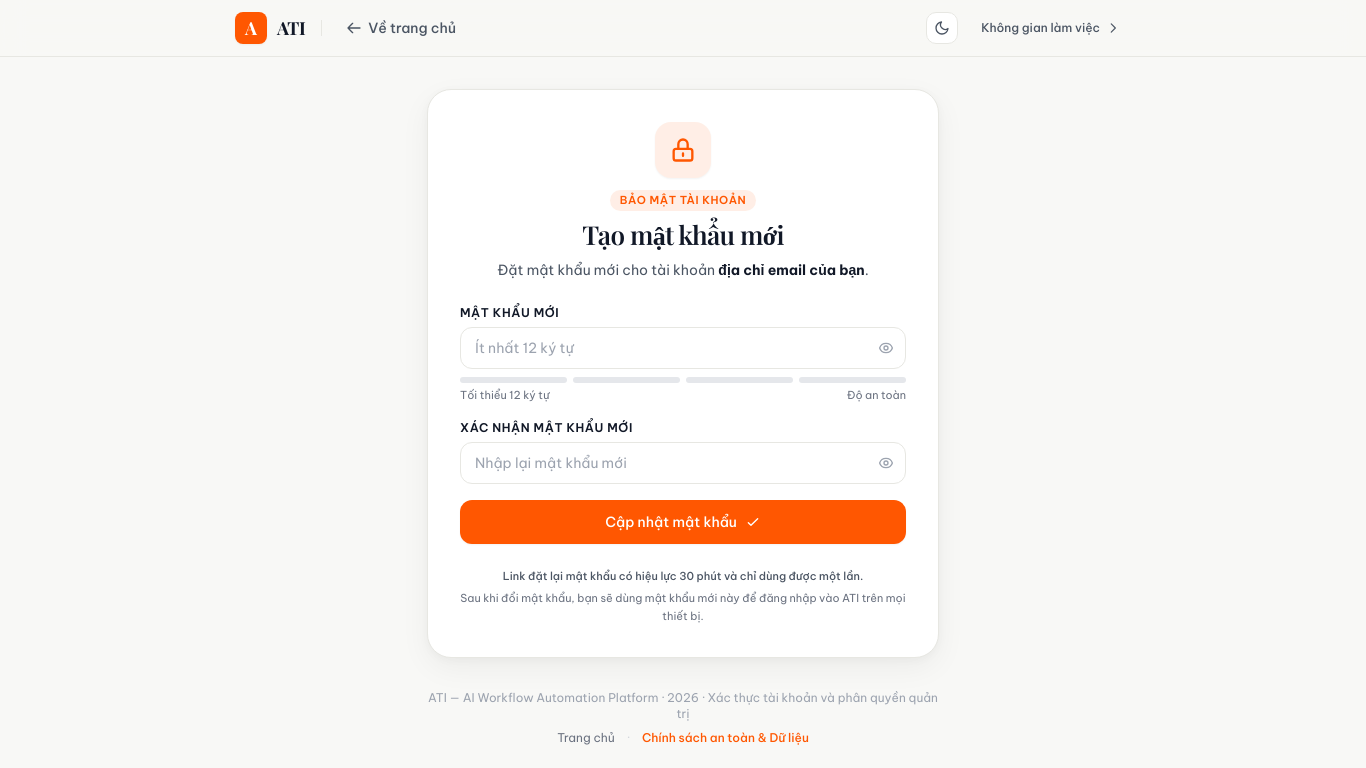
Test: blocks short reset passwords before sending a one-use token
The width and height of the screenshot is (1366, 768).
Type "short" into the password field labelled "Mật khẩu mới".
click(683, 348); type("short")  # box [460,327,906,369]
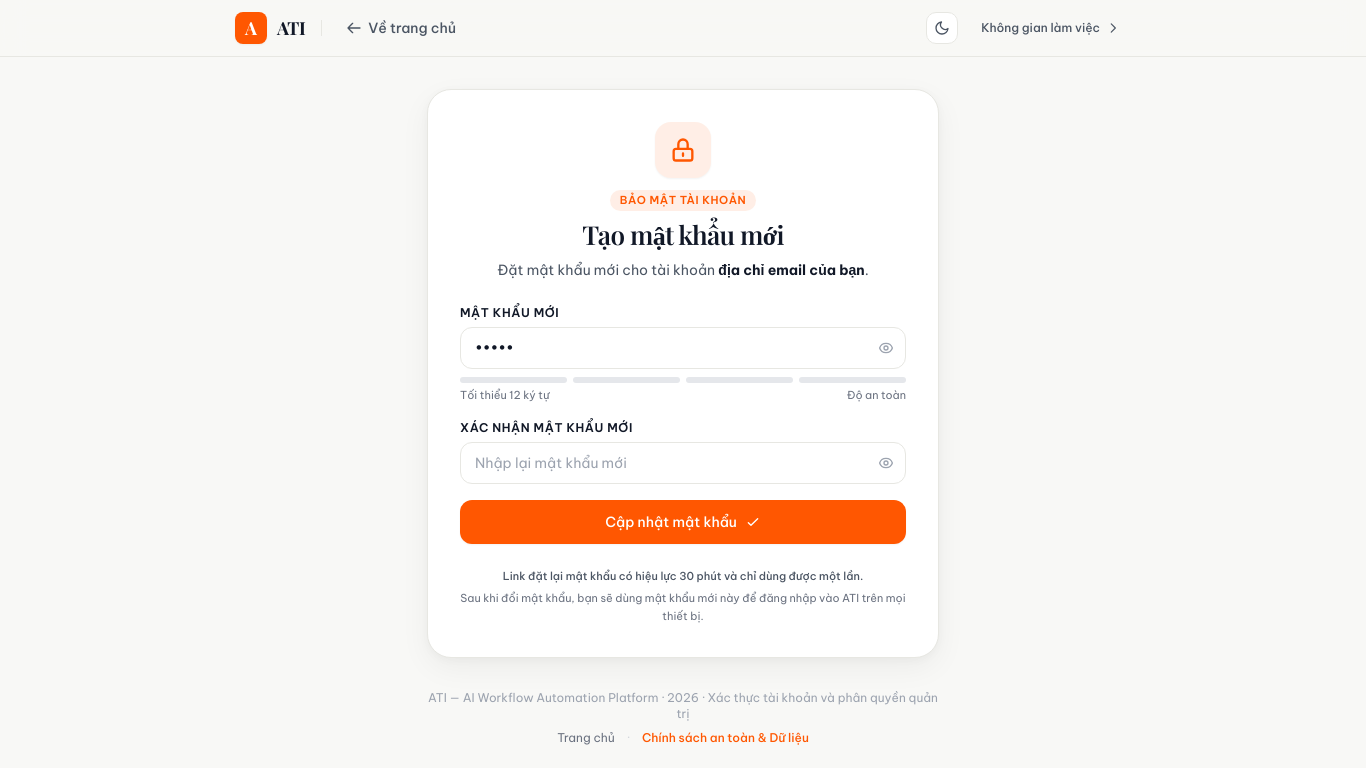
Type "short" into the password field labelled "Xác nhận mật khẩu mới".
click(683, 463); type("short")  # box [460,442,906,484]
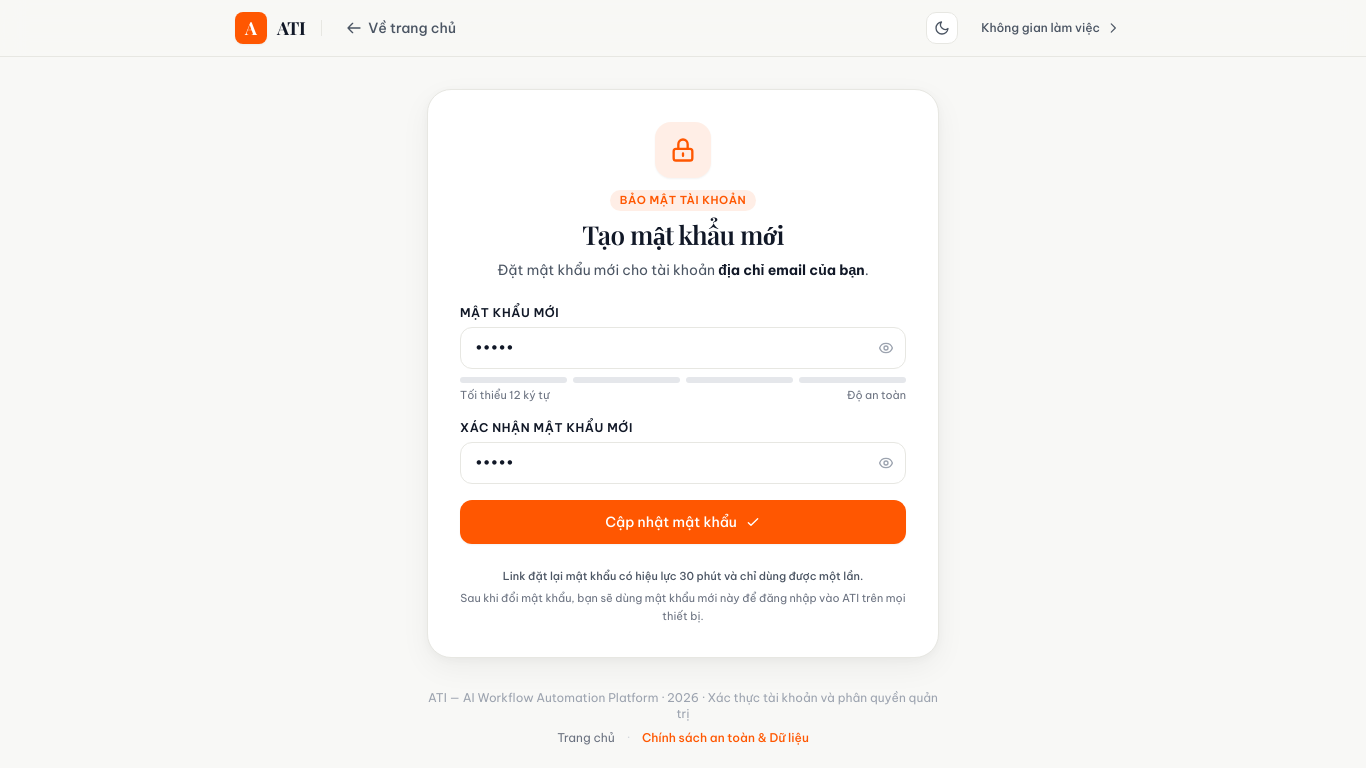
Submit the form, box [460,305,906,544]
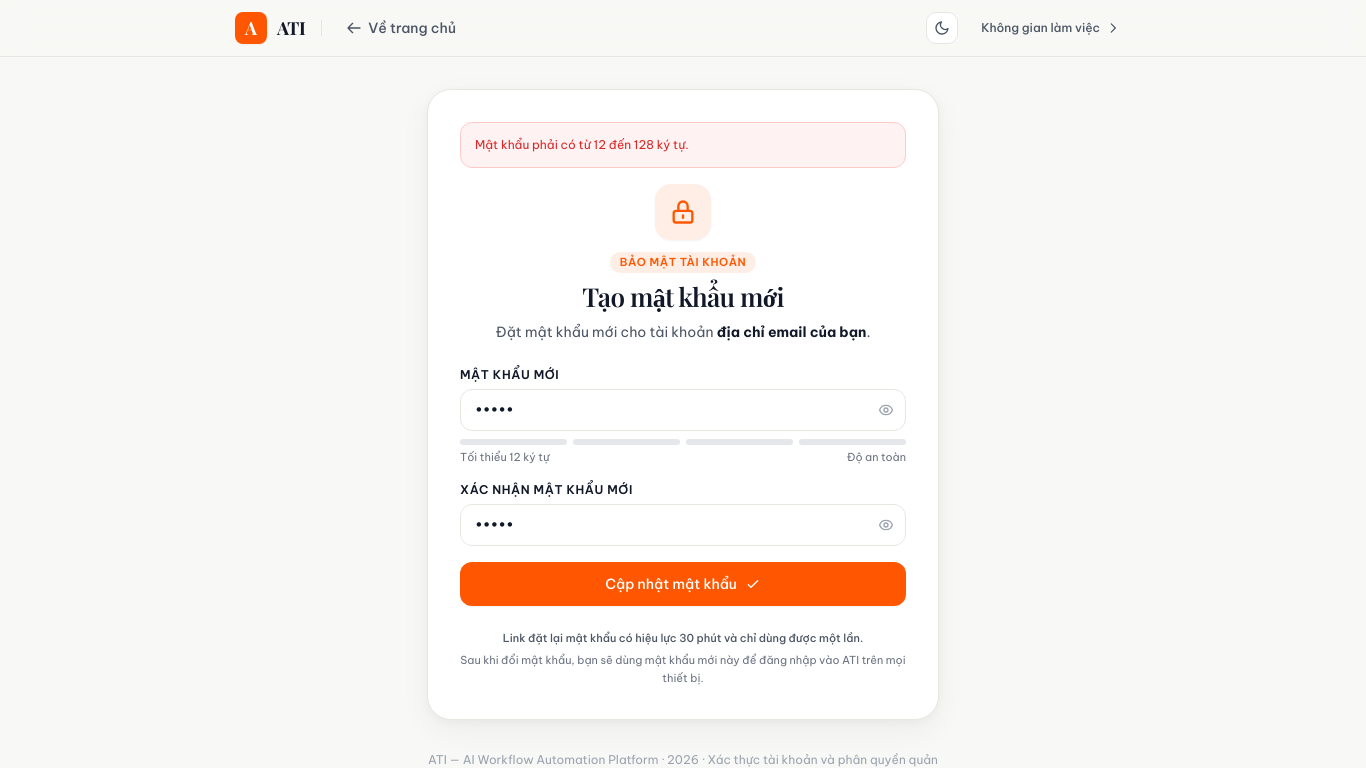
Expected: the message shows "12", [475,137,689,152]
